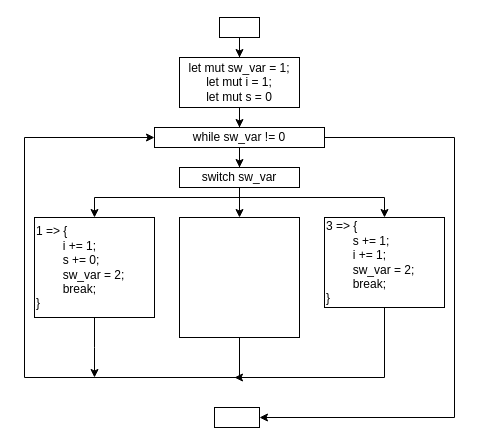
Image size: 480x445. Some labels were removed from this diagram. Here are the shapes that lost their labels. From the top down, the centre of each, then its label:
At (239,27): "Start".
At (239,277): "2 => { if i <= 100 { s w_var = 3; } else { sw_var = 0; } break; }".
At (237,417): "stop".
